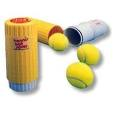tennis ball: (65, 62, 94, 90), (75, 43, 101, 65), (46, 33, 70, 51)
